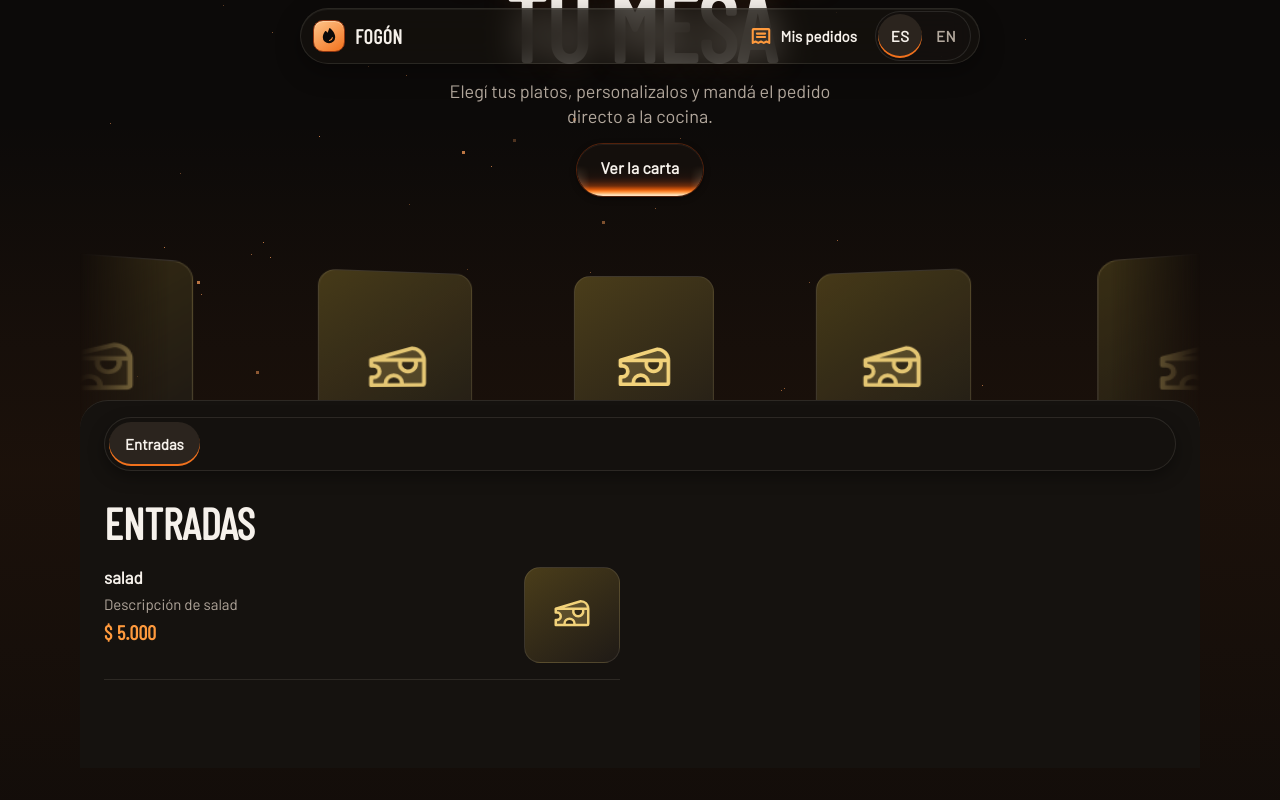
Test: CustomerApp: esqueleto de la app (RF1, RF2, RF3, RF4, RF32, RF41, RF42) › pedido en curso y envío (T8: RF21, RF23, RF25, RF26) › si el restaurante responde INVALID_TABLE, la mesa deja de ser válida y el pedido en curso se conserva (CL1)
Click the button "salad Descripción de salad $ 5.000" at (123, 577), box x1=104 y1=551 x2=620 y2=679
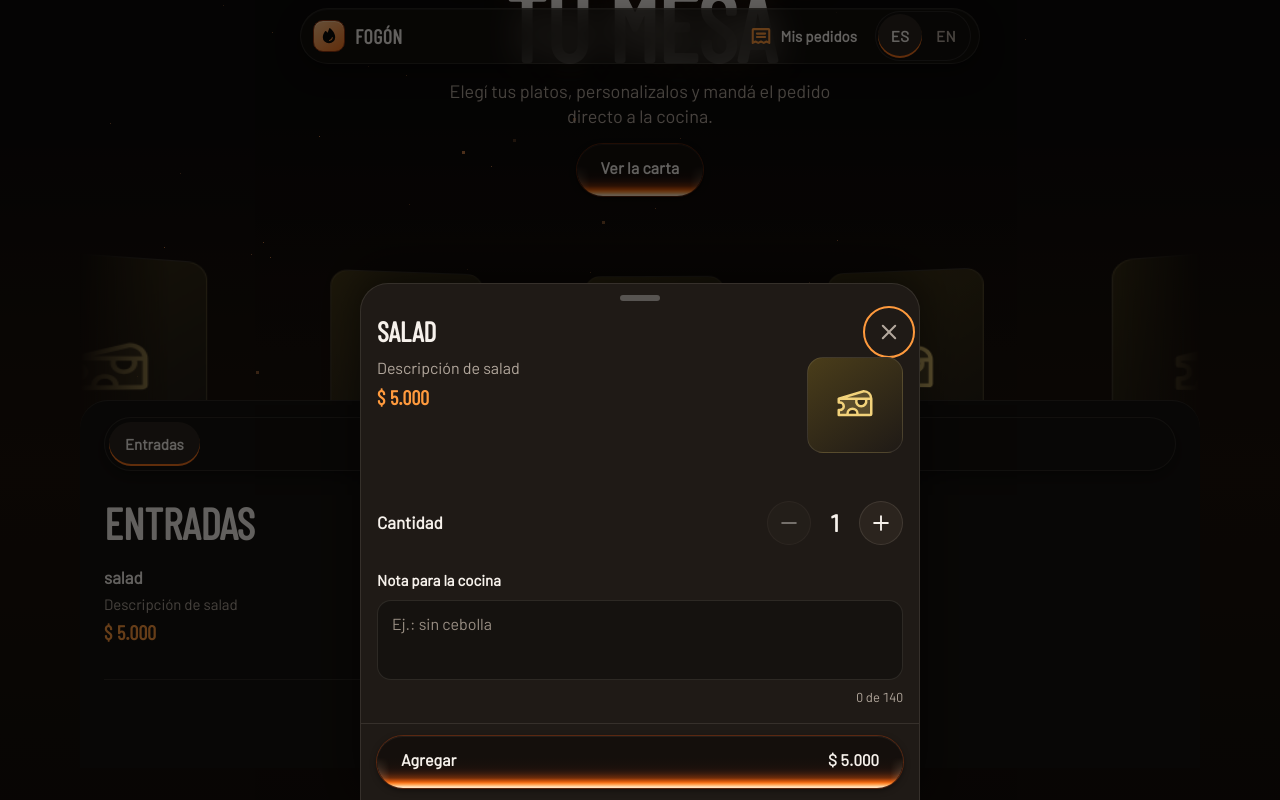
Click the button named "Aumentar cantidad" at (881, 523), box x1=859 y1=501 x2=903 y2=545
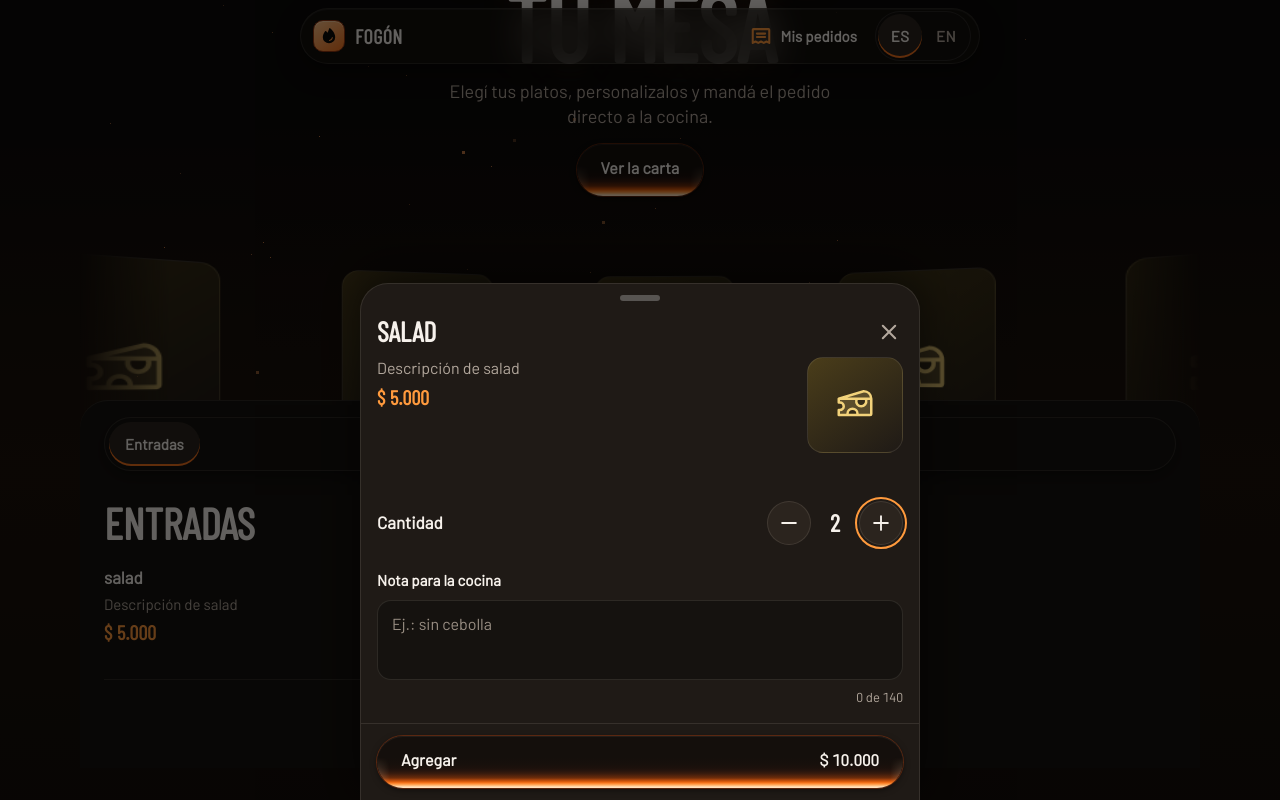
Click the button "Agregar $ 10.000" at (429, 760), box x1=377 y1=736 x2=903 y2=788
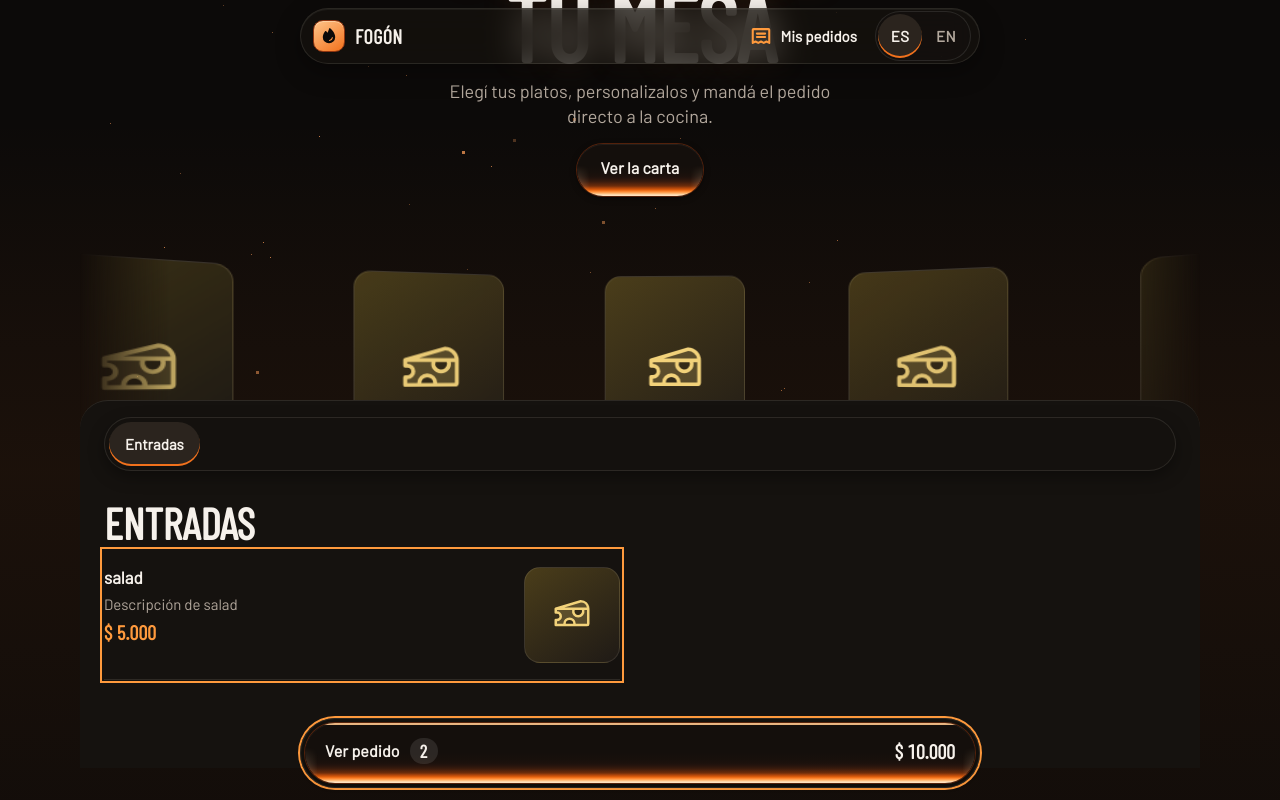
Expected: the dialog is gone
Click the button "Ver pedido 2 $ 10.000" at (362, 750), box x1=305 y1=723 x2=975 y2=783
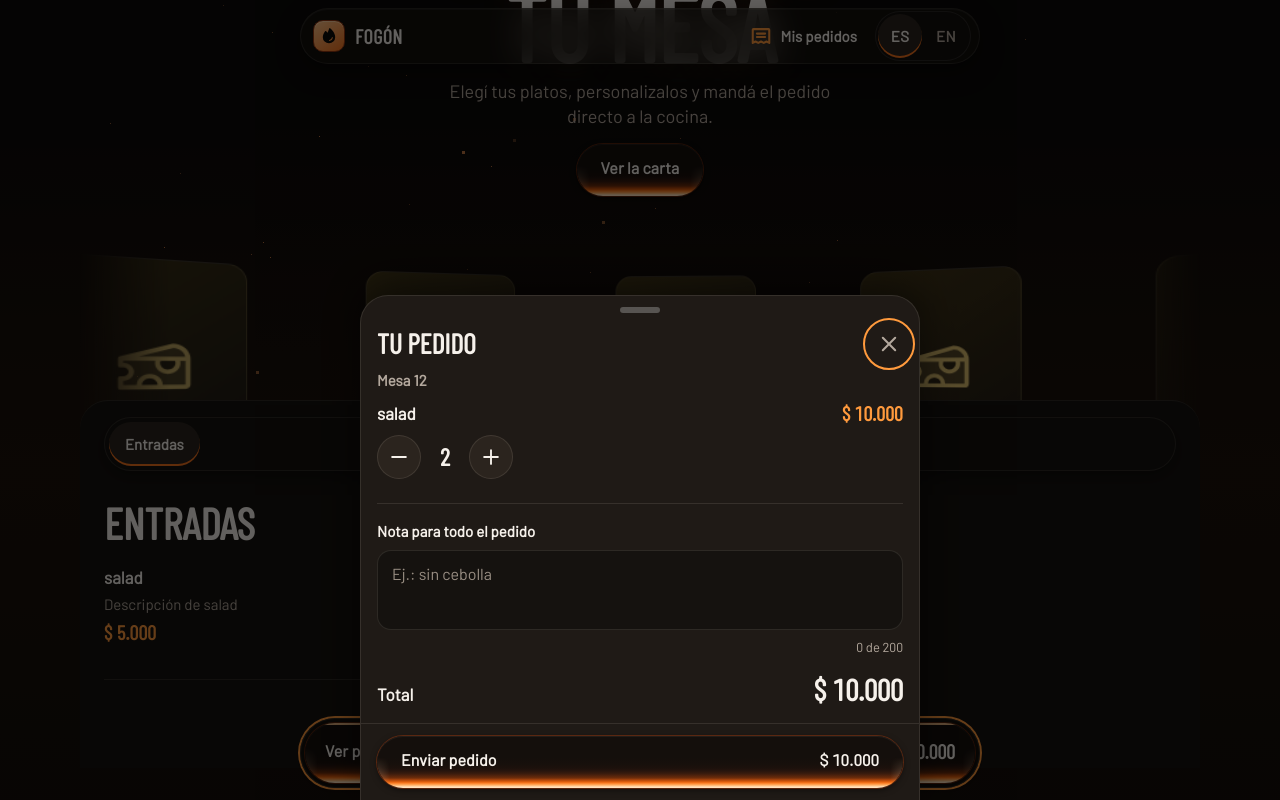
Click the button "Enviar pedido $ 10.000" at (449, 760), box x1=377 y1=736 x2=903 y2=788
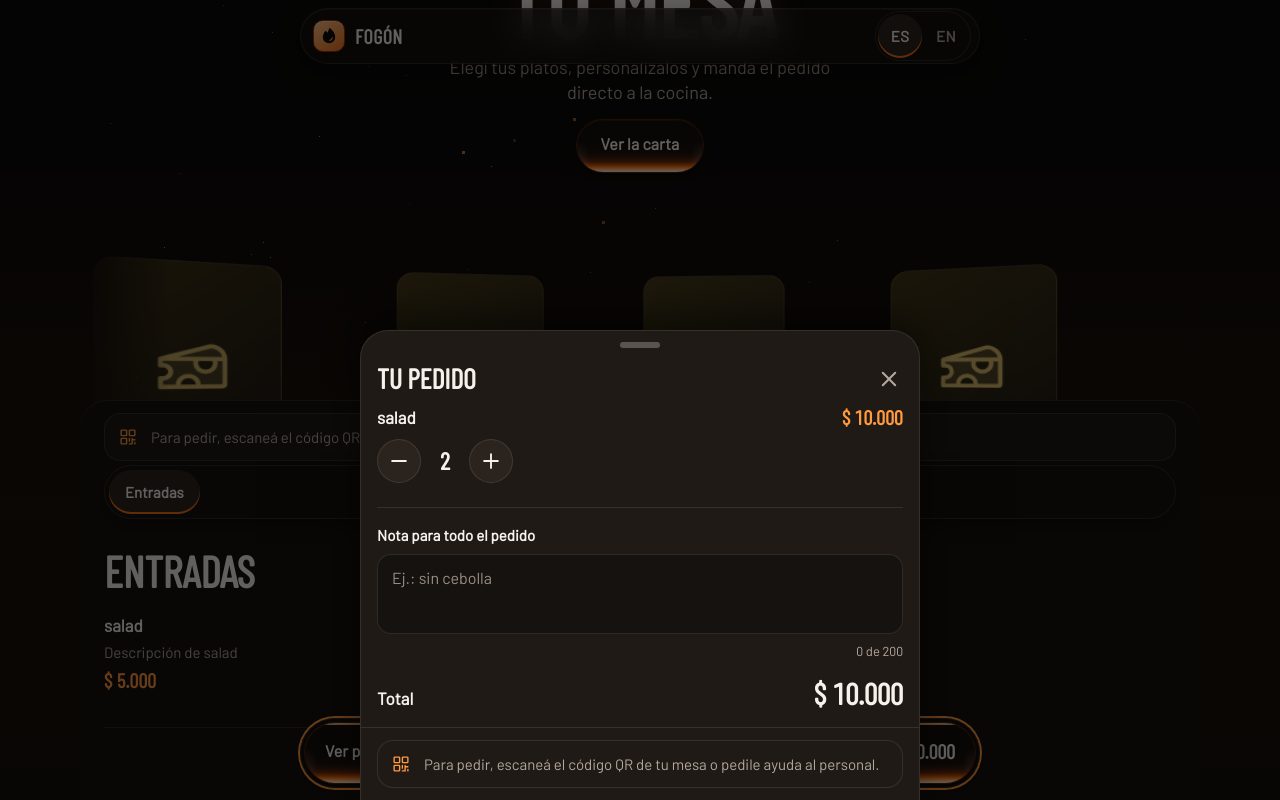
Expected: the 1st text "escaneá el código QR de tu mesa" is shown, x1=151 y1=428 x2=606 y2=446
Expected: the button "Enviar pedido" is gone
